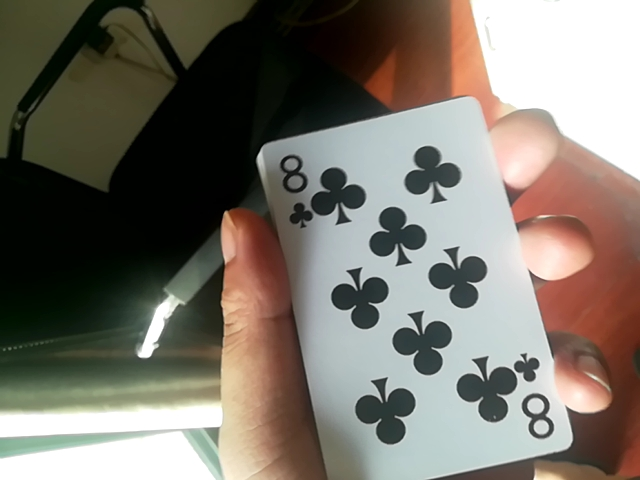mh 8: (280, 73, 584, 480)
